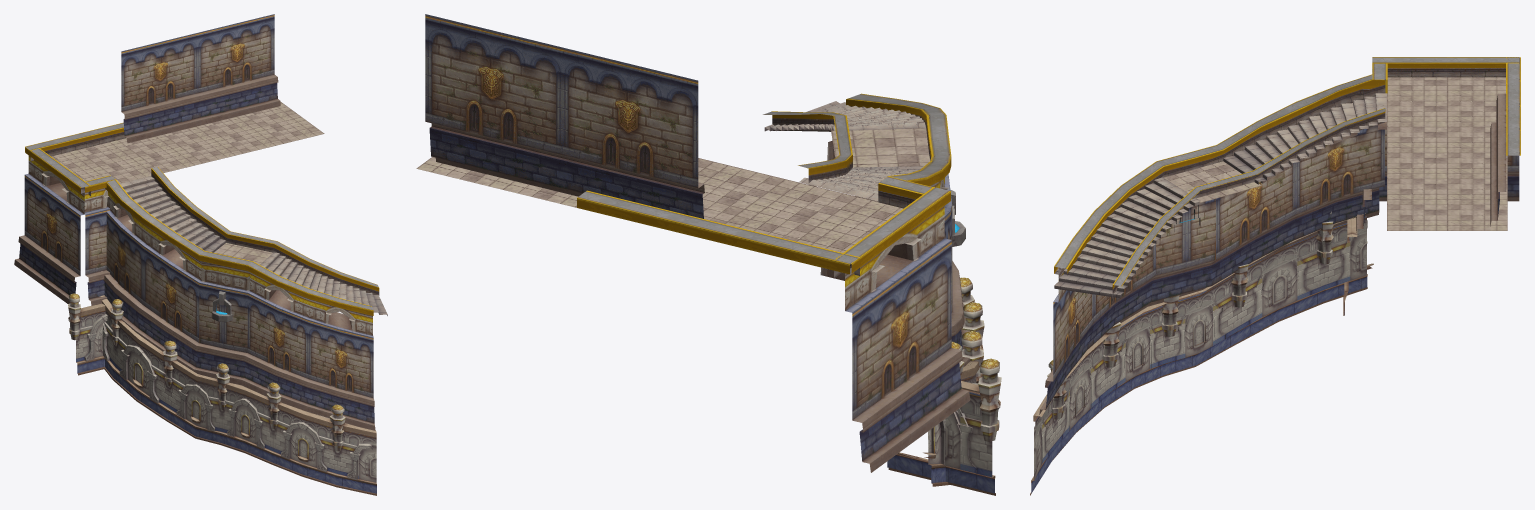
Rendered from fengbaozhita_05_B_3.FBX.
3 renders of one model, left to right at view 1: azimuth 30°, elevation 25°; view 2: azimuth 150°, elevation 25°; view 3: azimuth 270°, elevation 25°, orthographic. The views are drawn at different scales.
Parts seen in each view (by area): view 1: fengbaozhita_05_B_3; view 2: fengbaozhita_05_B_3; view 3: fengbaozhita_05_B_3.
Part boxes in pixels (box(x1,y1,x2,y2)): fengbaozhita_05_B_3: box(14, 14, 387, 495); fengbaozhita_05_B_3: box(416, 14, 1001, 495); fengbaozhita_05_B_3: box(1030, 57, 1520, 495).
Bounding box in the file's own units: 3003 × 3515 × 3602.
